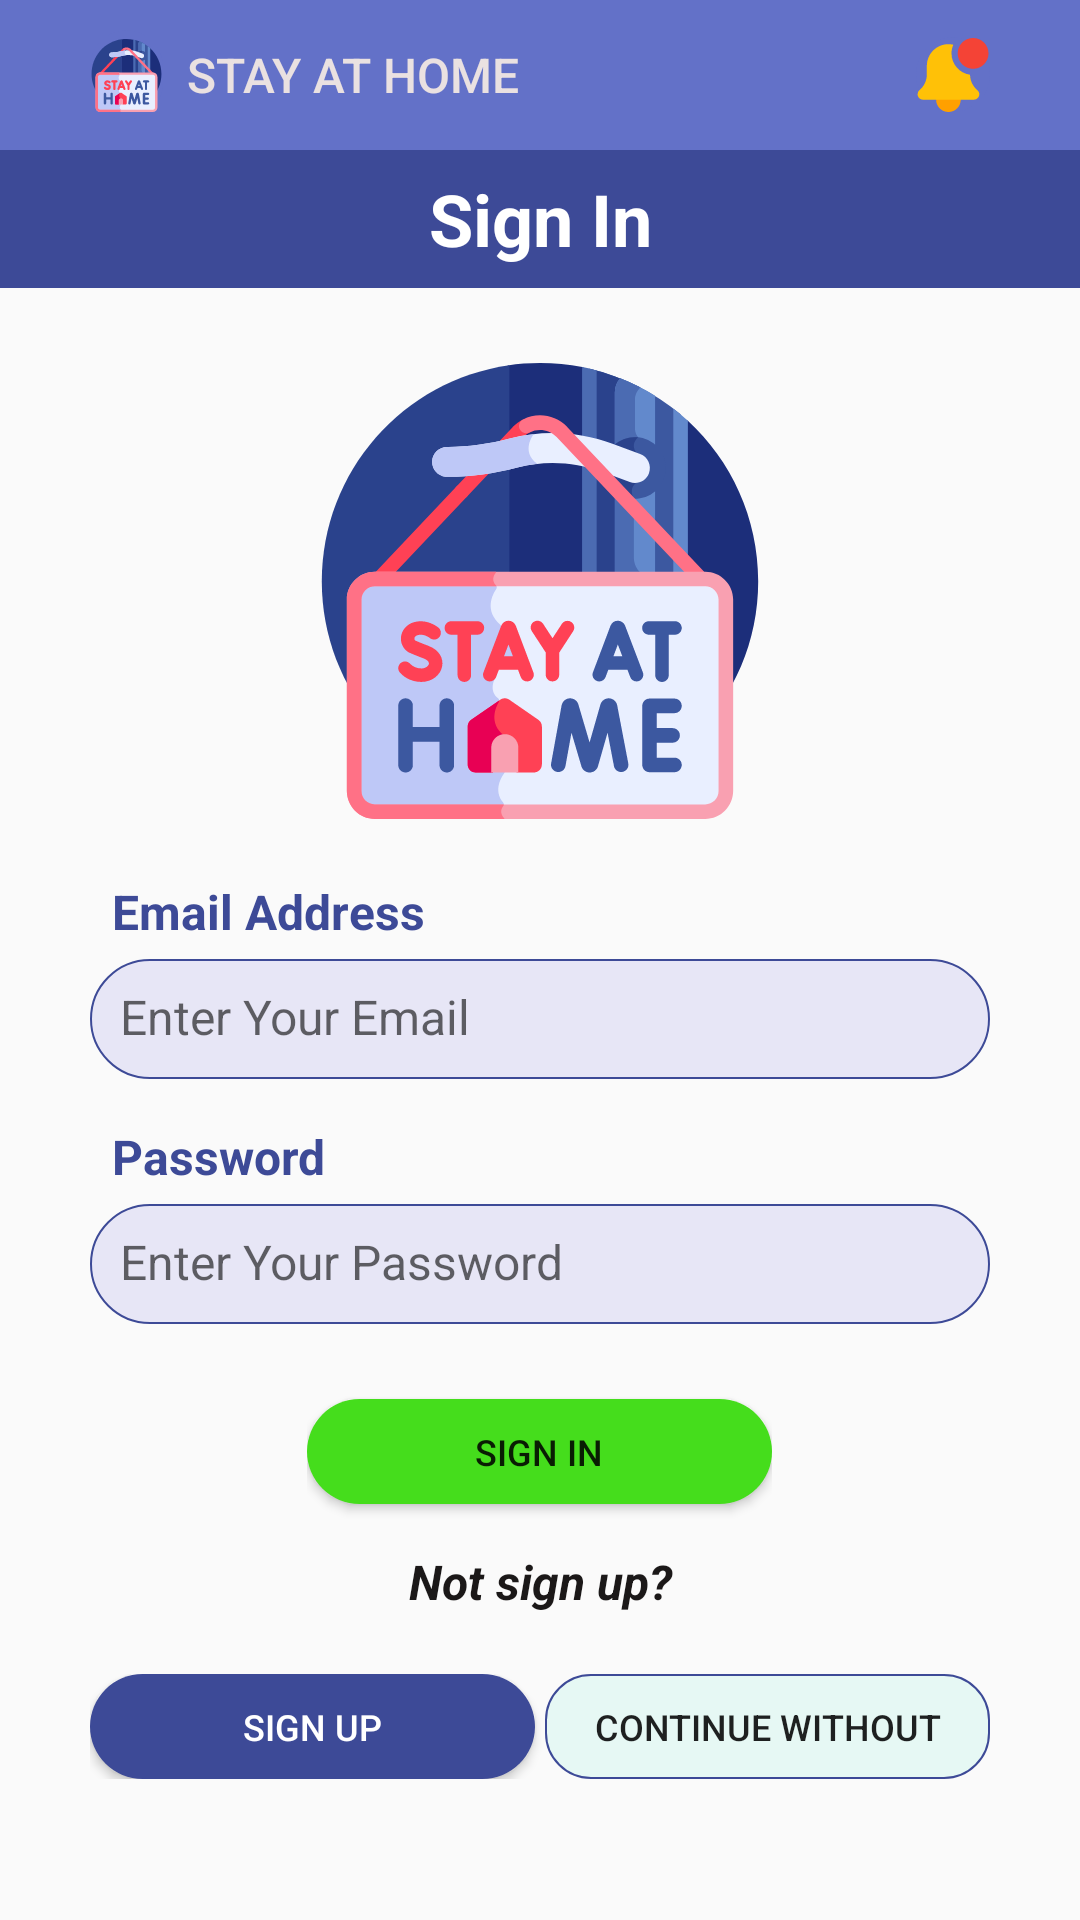

Screen size 1080 × 1920. Icon name, then its box in pixels as {"x1": x1, "y1": y1, "x2": x2, "y2": y2}:
notification: {"x1": 917, "y1": 38, "x2": 989, "y2": 112}
